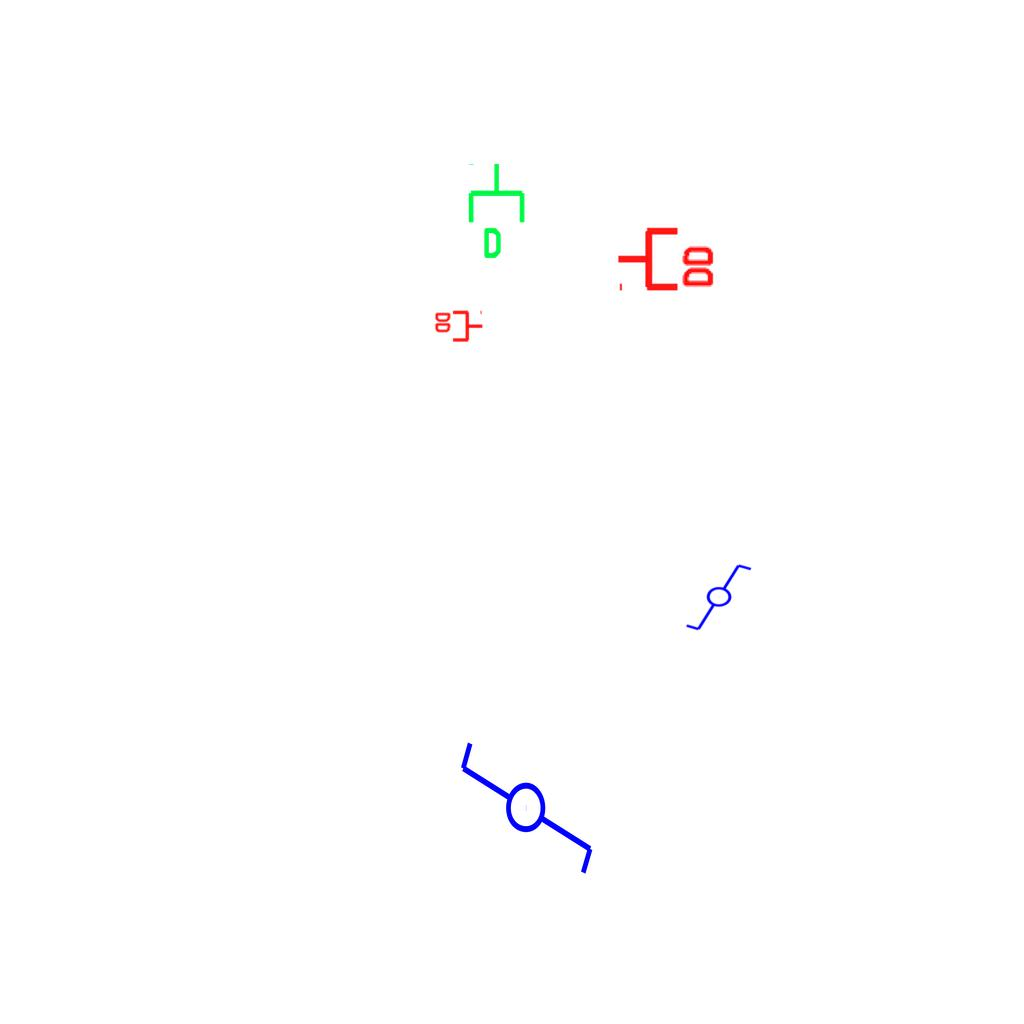Datenanschluss_einfach: (464, 161, 533, 261)
Datenanschluss_zweifach: (615, 223, 718, 292), (433, 310, 484, 344)
Wechselschalter: (456, 721, 600, 878), (684, 562, 762, 634)
